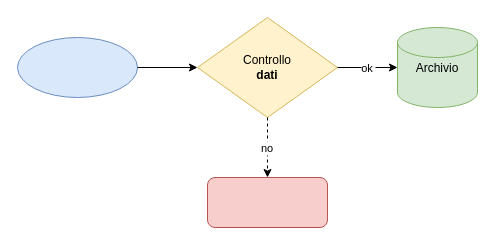
The diagram is 495 pixels wide and 245 high, and some of its shapes have lost their labels. The shapes that lost their labels are listed below. From the top down, each one's centre as x and y in pixels, then its label:
At pixel 77 67: "Inizio".
At pixel 267 202: "Errore".
